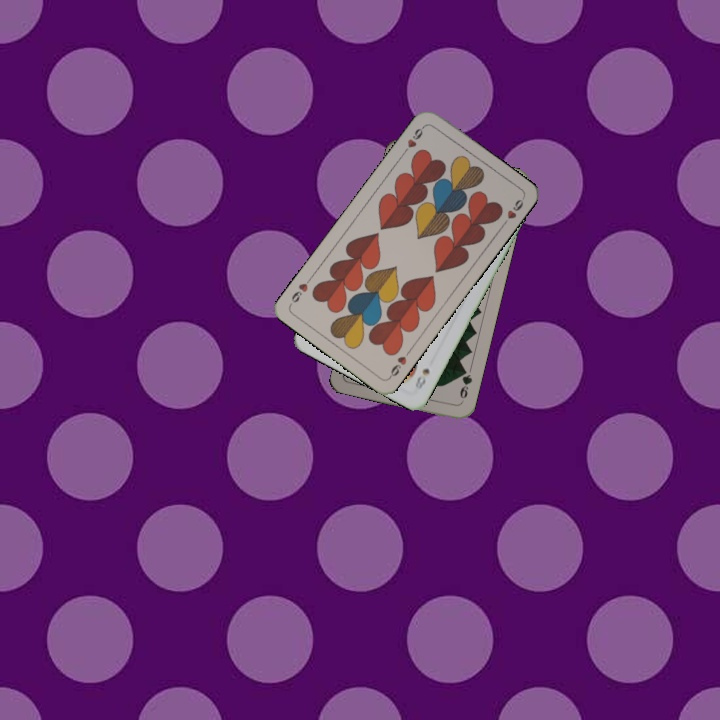G9: (456, 365, 475, 406)
H9: (399, 121, 428, 157), (385, 346, 413, 381)
S8: (411, 364, 432, 393)
